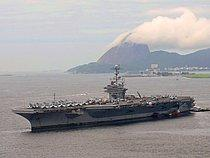MIL_Ship: (11, 62, 196, 130)
